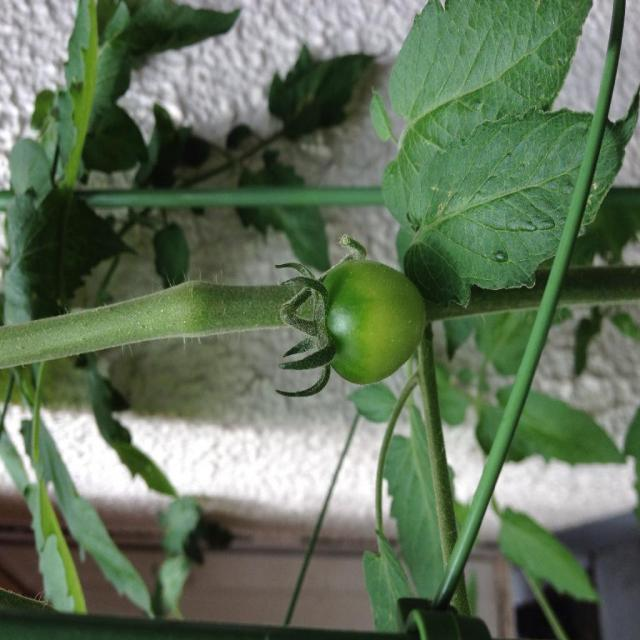Tomato: (270, 237, 429, 392)
